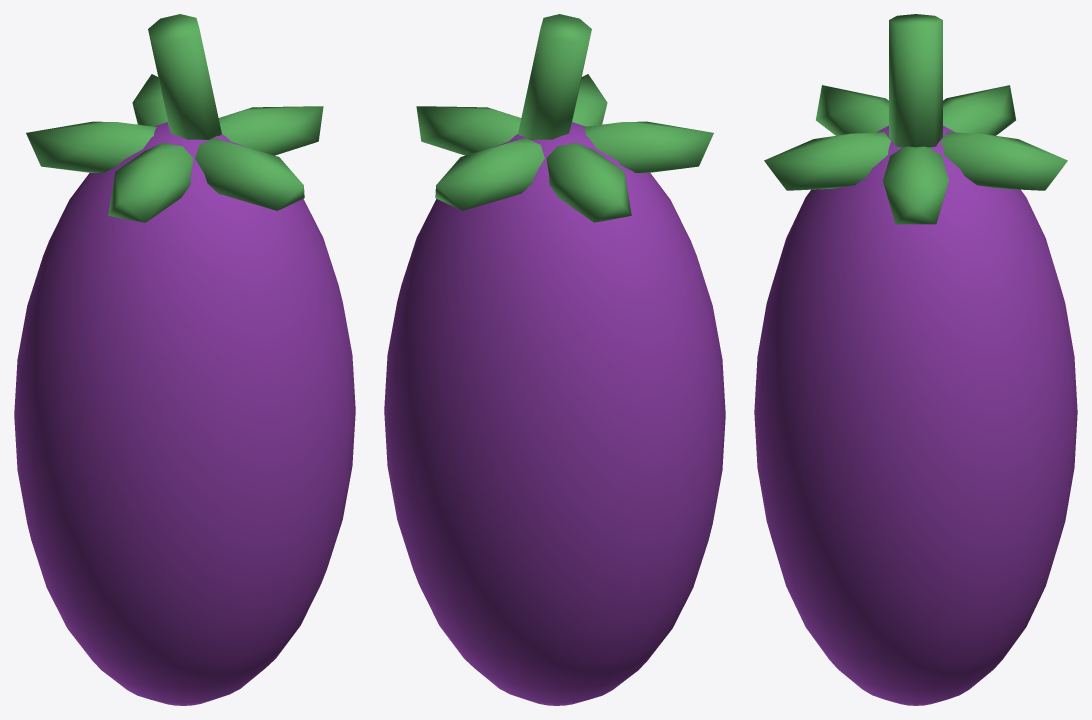
File: eggplant.glb
The picture shows the model from 3 angles, left to right: view 1: azimuth 30°, elevation 25°; view 2: azimuth 150°, elevation 25°; view 3: azimuth 270°, elevation 25°; orthographic projection.
Parts seen in each view (by area): view 1: eggplant; view 2: eggplant; view 3: eggplant.
Part boxes in pixels (x1,y1,x2,y2): eggplant: (14, 14, 355, 705); eggplant: (384, 14, 725, 705); eggplant: (754, 14, 1077, 705).
Bounding box in the file's own units: 0.4651 × 1 × 0.433.
